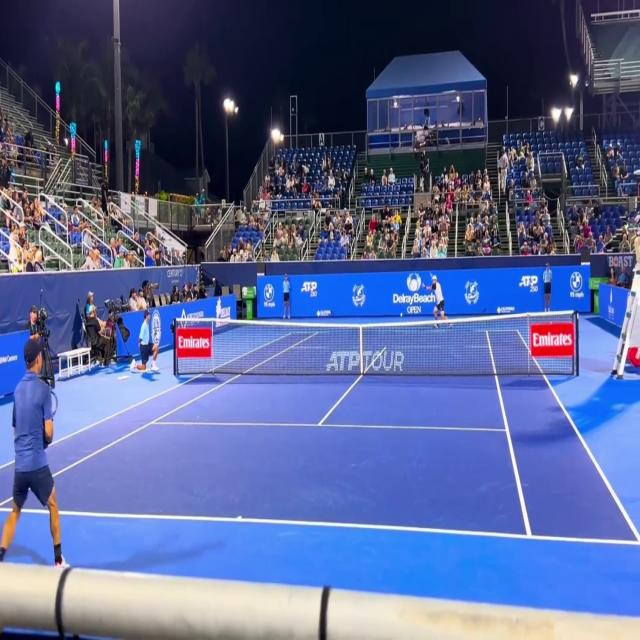tennisBall: (397, 308, 405, 322)
